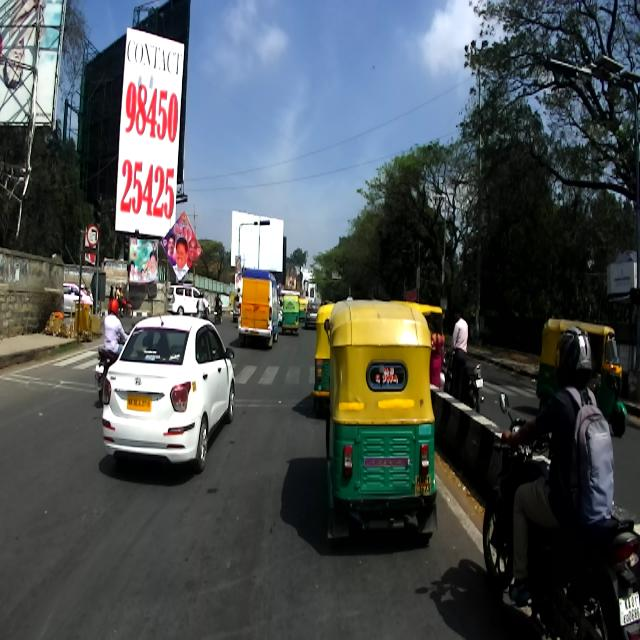auto ahead at: (326, 299, 440, 529)
car ahead at: (100, 306, 239, 476)
motorcycle ahead at: (557, 511, 640, 640)
